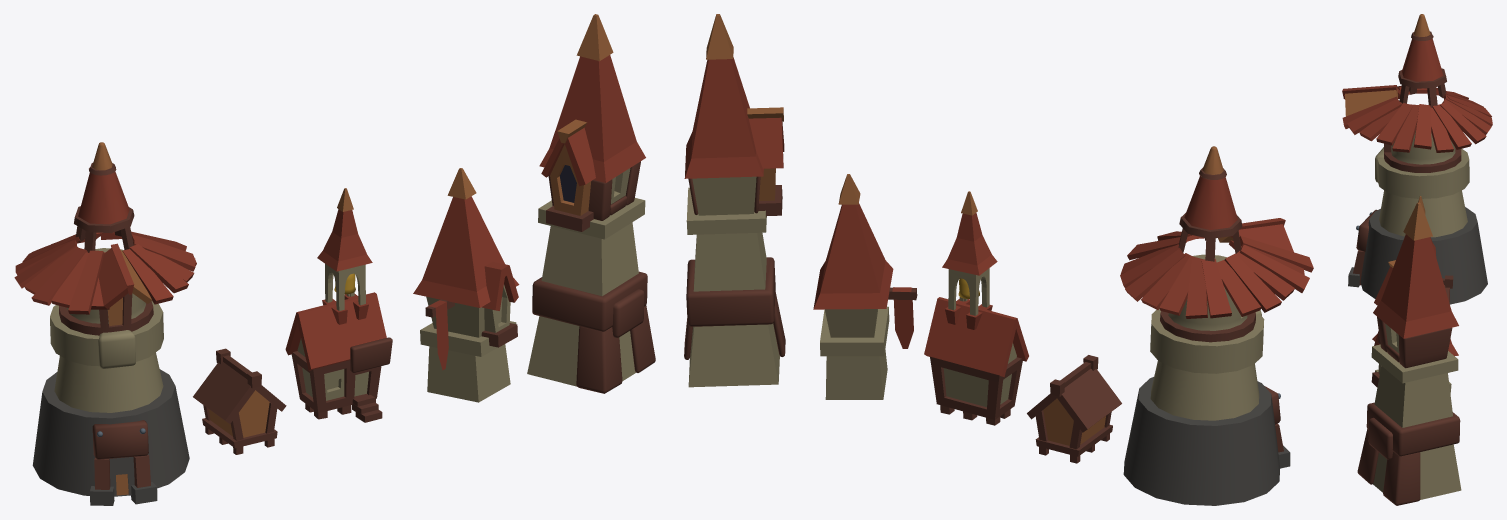
The model's file is assets-houses.fbx.
3 views of the same model, side by side, from view 1: azimuth 30°, elevation 25°; view 2: azimuth 150°, elevation 25°; view 3: azimuth 270°, elevation 25° (orthographic). The views are drawn at different scales.
Parts seen in each view (by area): view 1: o_big-tower, o_medium-tower, o_small-tower, o_tavern, o_house; view 2: o_big-tower, o_medium-tower, o_tavern, o_small-tower, o_house; view 3: o_big-tower, o_medium-tower, o_small-tower.
Boxes of the visible parts, x1,y1,x2,y2 form: o_big-tower: (14, 142, 196, 505); o_medium-tower: (527, 14, 655, 393); o_small-tower: (413, 168, 519, 402); o_tavern: (285, 188, 392, 422); o_house: (193, 348, 286, 454); o_big-tower: (1120, 146, 1313, 505); o_medium-tower: (684, 14, 785, 387); o_tavern: (924, 191, 1028, 425); o_small-tower: (813, 174, 917, 399); o_house: (1027, 355, 1121, 463); o_big-tower: (1342, 14, 1492, 304); o_medium-tower: (1357, 202, 1461, 505); o_small-tower: (1371, 331, 1458, 393).
Size of the model in its own units: 2.45 by 5.13 by 9.49.
